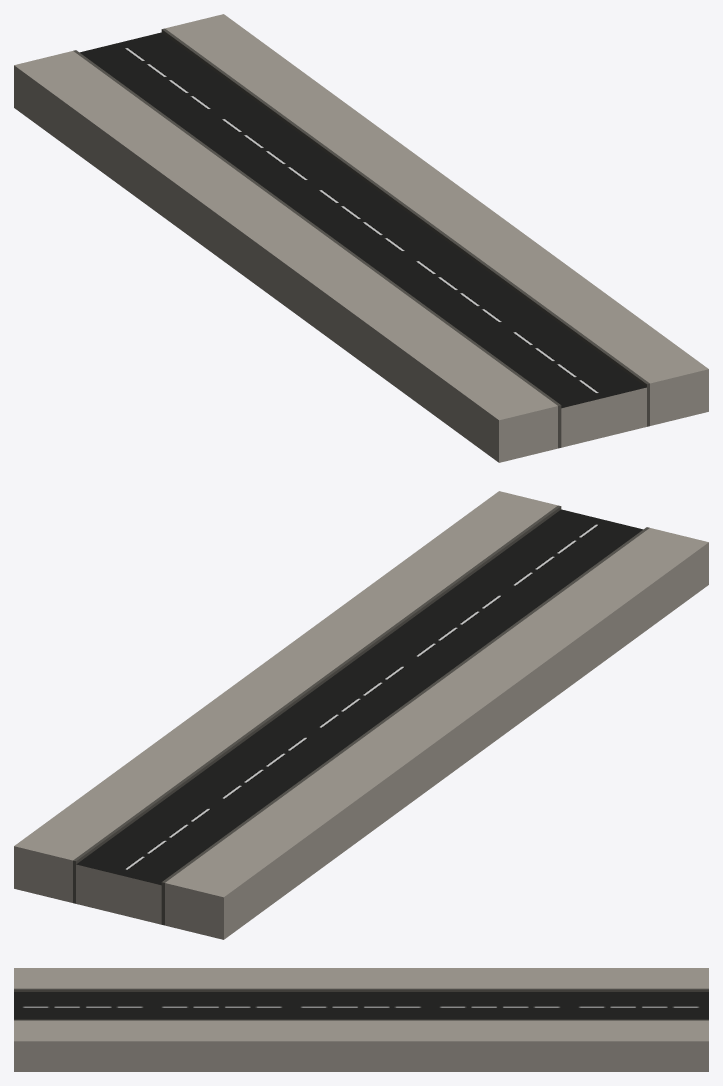
File: Road_Road14.fbx
3 views of the same model, one above another, from view 1: azimuth 30°, elevation 25°; view 2: azimuth 150°, elevation 25°; view 3: azimuth 270°, elevation 25° (orthographic). The views are drawn at different scales.
Visible parts, largest first — view 1: Road_Road14; view 2: Road_Road14; view 3: Road_Road14.
Boxes of the visible parts, bbox=[...] form: Road_Road14: bbox=[14, 14, 708, 462]; Road_Road14: bbox=[14, 491, 708, 939]; Road_Road14: bbox=[14, 968, 708, 1071].
Bounding box in the file's own units: 1696 × 329 × 6793.
